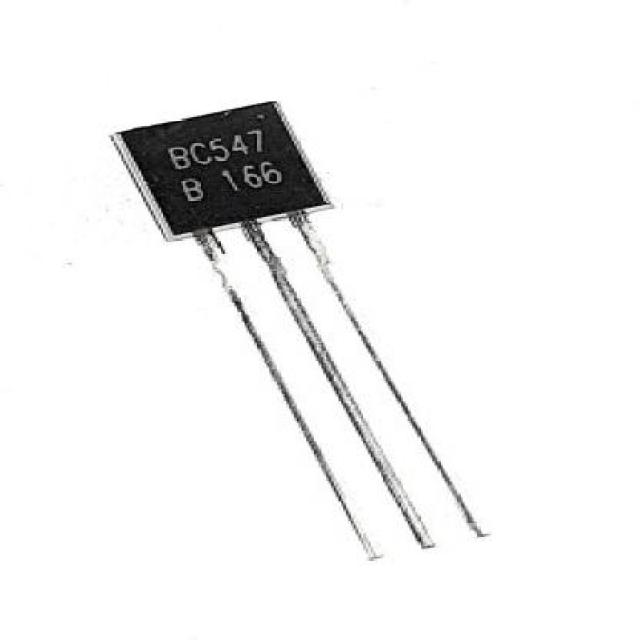Transistor: (111, 100, 329, 242)
